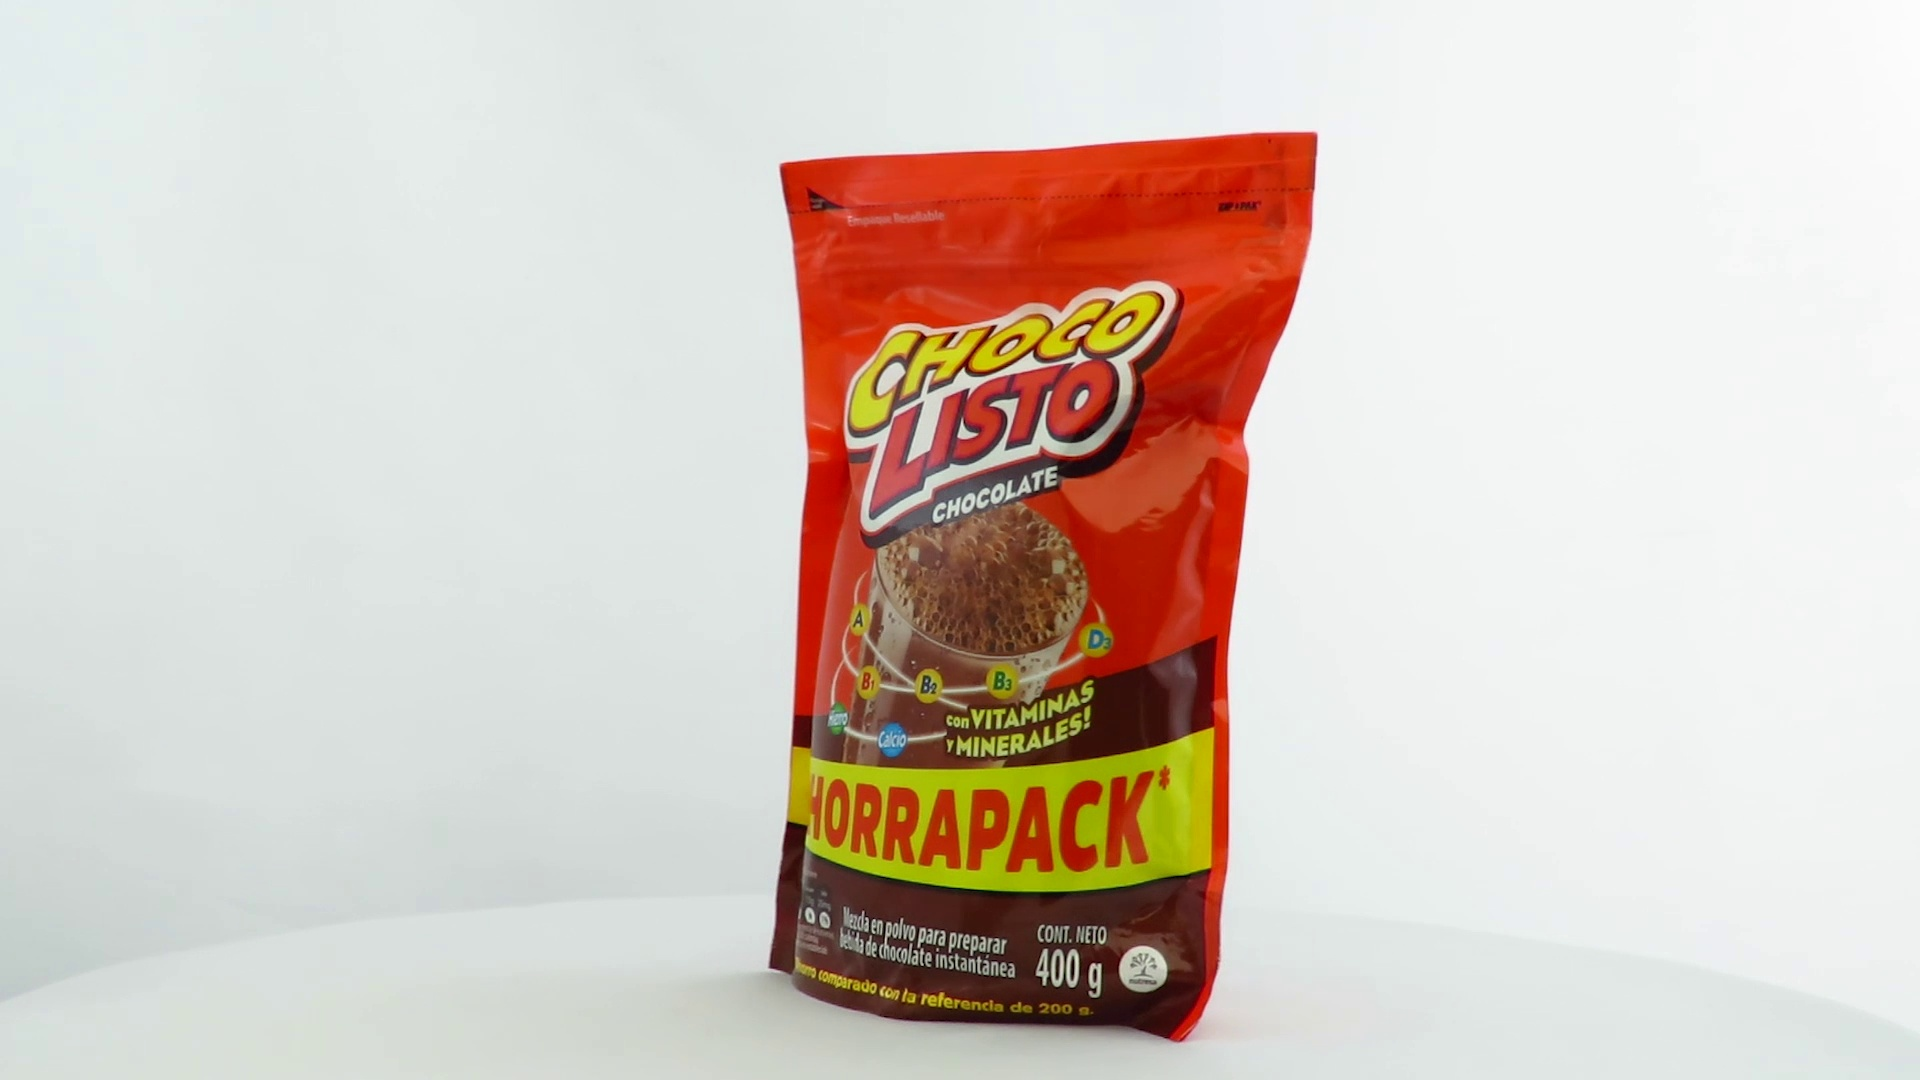COL0170103DYP40000: (764, 127, 1324, 1048)
